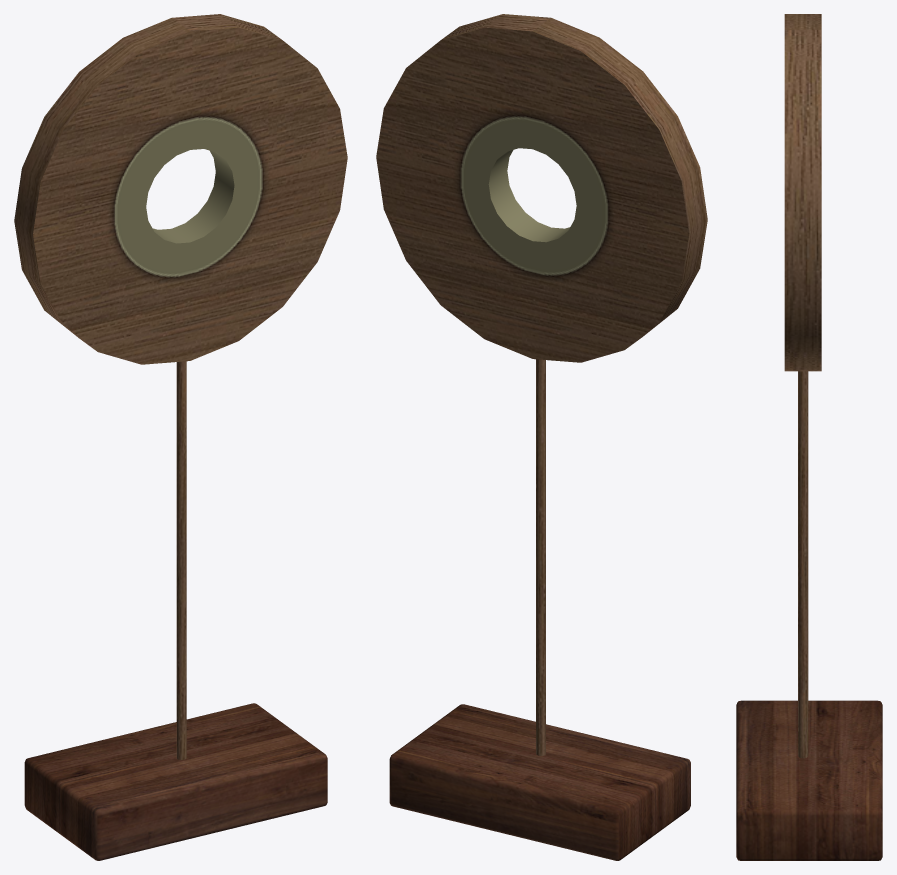
File: wood showpiece1.FBX
The picture shows the model from 3 angles, left to right: view 1: azimuth 30°, elevation 25°; view 2: azimuth 150°, elevation 25°; view 3: azimuth 270°, elevation 25°; orthographic projection.
Visible parts, largest first — view 1: wood showpiece1; view 2: wood showpiece1; view 3: wood showpiece1.
Part boxes in pixels (x1,y1,x2,y2): wood showpiece1: [14, 14, 347, 860]; wood showpiece1: [376, 14, 707, 860]; wood showpiece1: [736, 14, 882, 860].
Bounding box in the file's own units: 5.1 × 2.08 × 12.16.
1 material, 1 textured.
